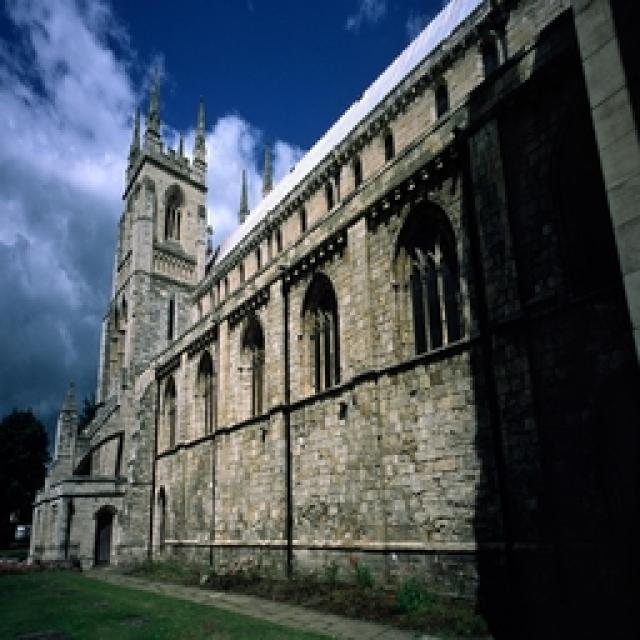Abbey: (36, 72, 640, 609)
